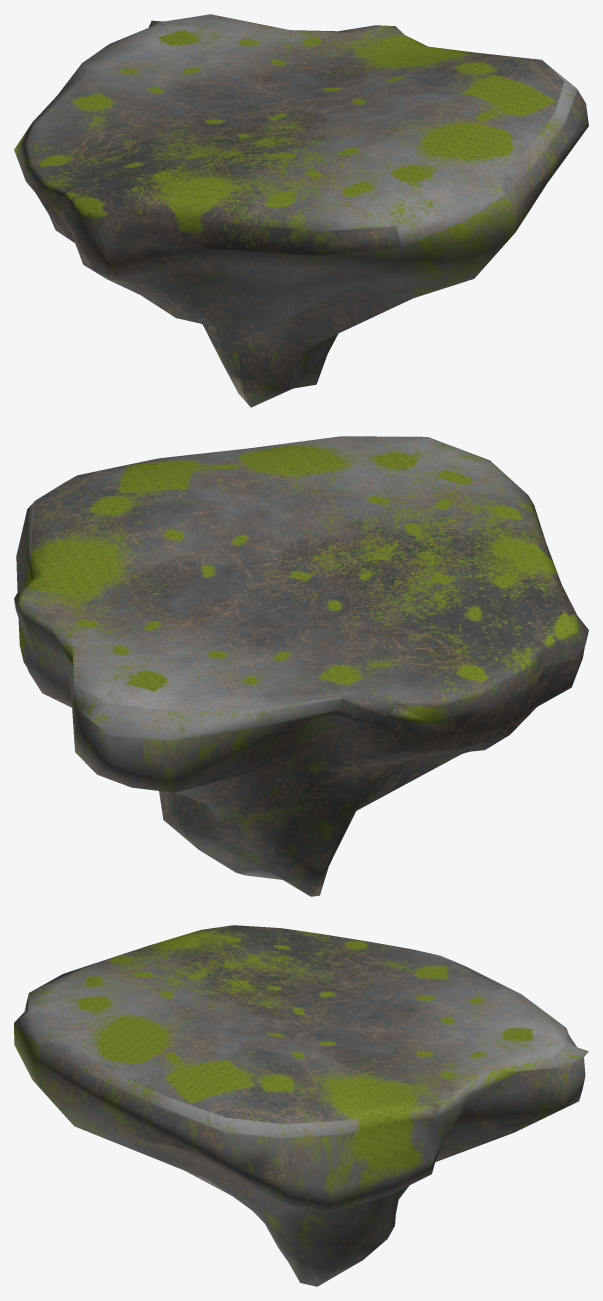
3 views of the same model, one above another, from view 1: azimuth 30°, elevation 25°; view 2: azimuth 150°, elevation 25°; view 3: azimuth 270°, elevation 25° (orthographic). The views are drawn at different scales.
Visible parts, largest first — view 1: Mesh23; view 2: Mesh23; view 3: Mesh23.
Boxes of the visible parts, box(x1,y1,x2,y2) form: Mesh23: box(14, 14, 588, 407); Mesh23: box(14, 436, 588, 896); Mesh23: box(14, 925, 588, 1286).
Size of the model in its own units: 13955 by 8157 by 15023.
